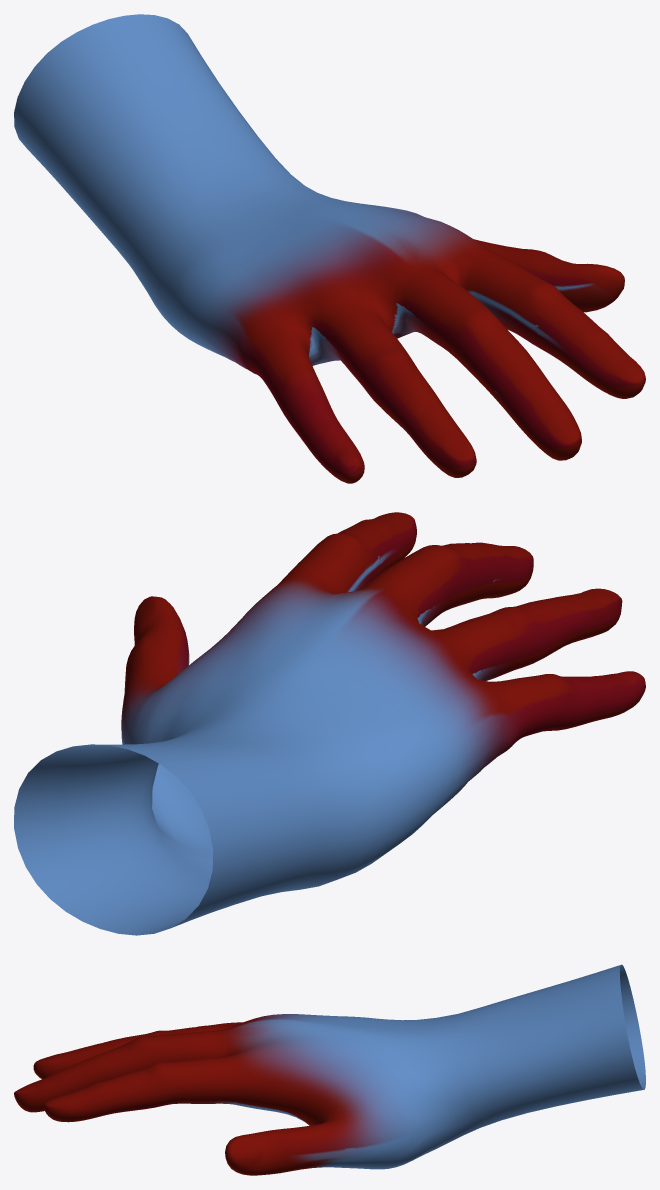
The model's file is BloodGlove.fbx.
The picture shows the model from 3 angles, top to bottom: view 1: azimuth 30°, elevation 25°; view 2: azimuth 150°, elevation 25°; view 3: azimuth 270°, elevation 25°; orthographic projection. The views are drawn at different scales.
Parts seen in each view (by area): view 1: Hand; view 2: Hand; view 3: Hand.
Part boxes in pixels (box(x1,y1,x2,y2)): Hand: box(14, 14, 645, 483); Hand: box(14, 512, 645, 935); Hand: box(14, 964, 645, 1175).
Size of the model in its own units: 251 by 142 by 503.
Materials: 1 (1 with a texture image).
